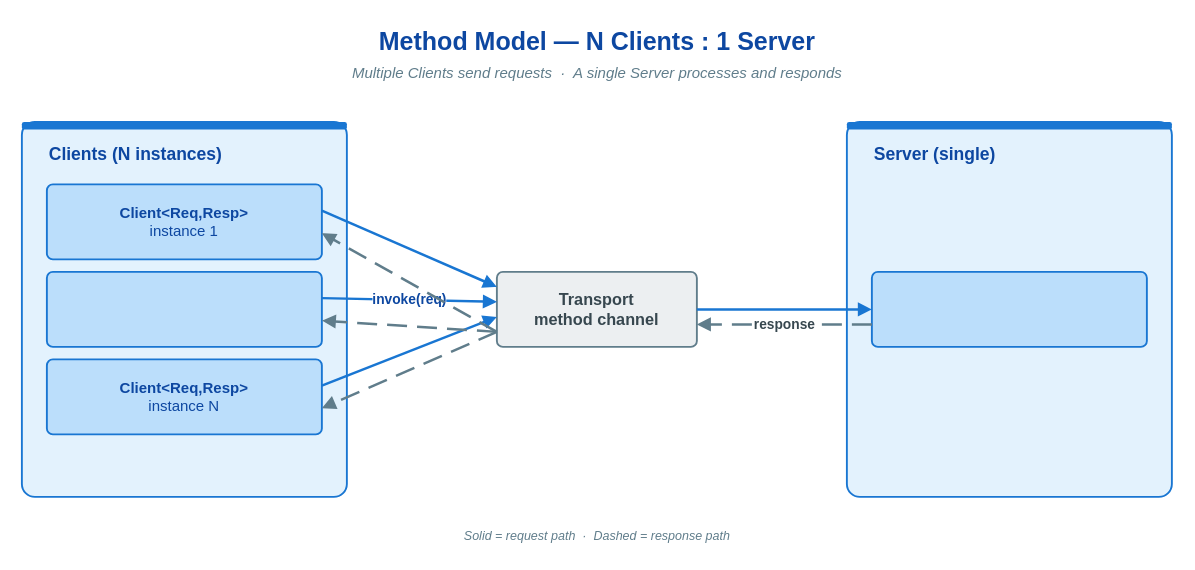
Some shapes in this 1195 by 570 pixel diagram are drawn without their labels. Here are the shapes that lost their labels. From the top down, the centre of each, then its label:
At (183,308): "Client<Req,Resp> instance 2".
At (1008,308): "Server<Req,Resp> callback(req, resp)".
